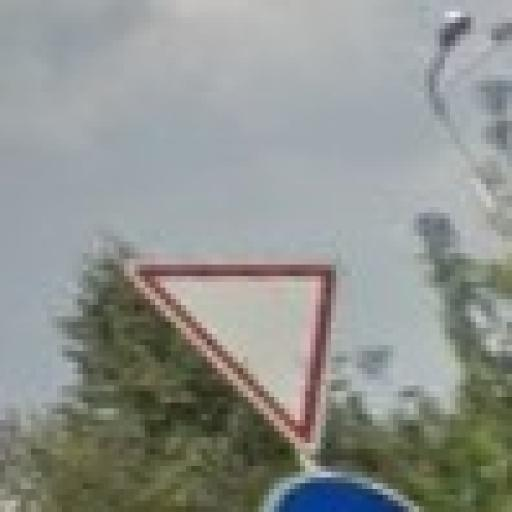traffic_sign: (125, 254, 342, 461)
